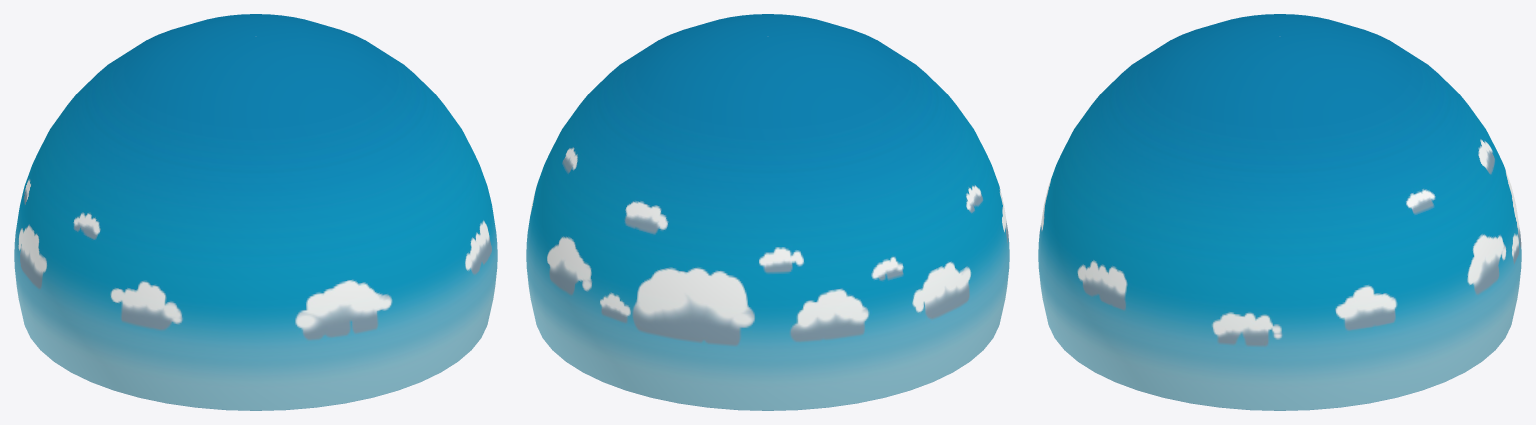
The model's file is env_meadow.glb.
The picture shows the model from 3 angles, left to right: view 1: azimuth 30°, elevation 25°; view 2: azimuth 150°, elevation 25°; view 3: azimuth 270°, elevation 25°; orthographic projection.
Parts seen in each view (by area): view 1: meadow_sky_dome; view 2: meadow_sky_dome; view 3: meadow_sky_dome.
Part boxes in pixels (x1,y1,x2,y2): meadow_sky_dome: (14, 14, 497, 410); meadow_sky_dome: (526, 14, 1009, 410); meadow_sky_dome: (1038, 14, 1521, 410).
Size of the model in its own units: 560 by 352 by 560.
Materials: 6 (5 with a texture image).
